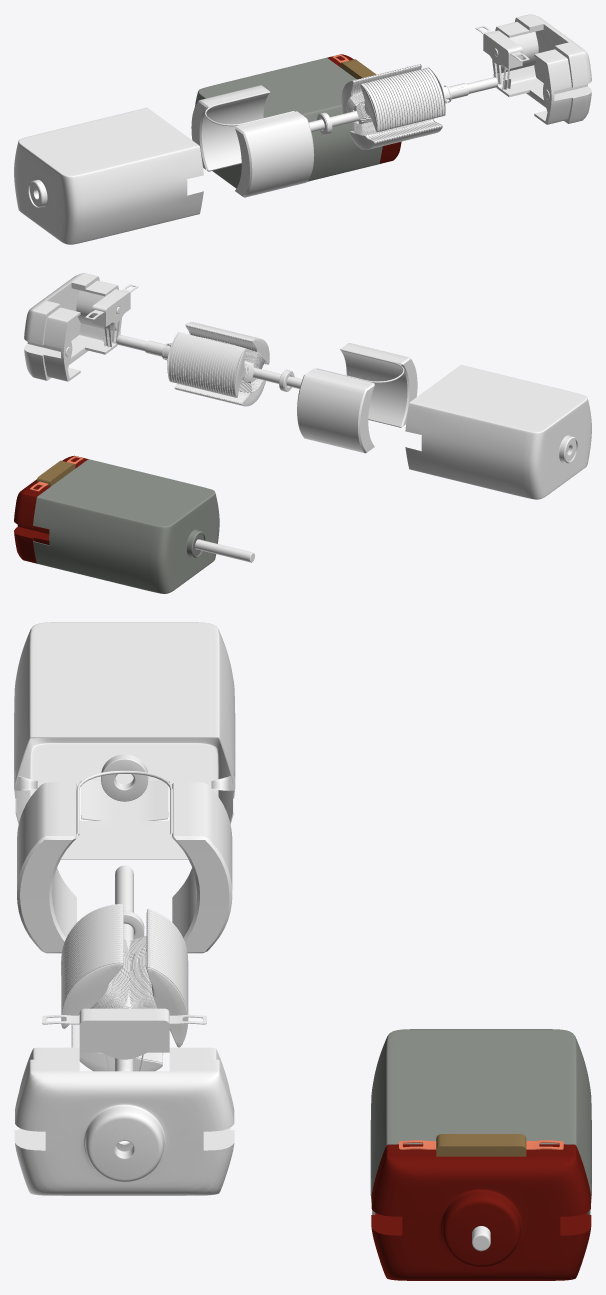
Rendered from MOTOR.glb.
3 views of the same model, one above another, from view 1: azimuth 30°, elevation 25°; view 2: azimuth 150°, elevation 25°; view 3: azimuth 270°, elevation 25° (orthographic). The views are drawn at different scales.
Visible parts, largest first — view 1: Plane.001, Plane, Plane.009, Plane.008, Plane.005, Plane.004, Plane.007, Plane.006; view 2: Plane, Plane.001, Plane.009, Plane.008, Plane.004, Plane.005, Plane.007; view 3: Plane, Plane.001, Plane.008, Plane.009, Plane.004, Plane.005, Plane.007, Plane.003.
Boxes of the visible parts, box(x1,y1,x2,y2) form: Plane.001: box(14, 107, 203, 244); Plane: box(194, 54, 401, 188); Plane.009: box(308, 64, 497, 149); Plane.008: box(492, 14, 591, 124); Plane.005: box(235, 111, 314, 197); Plane.004: box(191, 85, 269, 171); Plane.007: box(475, 26, 529, 90); Plane.006: box(204, 91, 294, 126); Plane: box(14, 455, 254, 593); Plane.001: box(405, 365, 591, 499); Plane.009: box(116, 322, 302, 406); Plane.008: box(24, 273, 121, 381); Plane.004: box(297, 368, 374, 453); Plane.005: box(340, 343, 417, 427); Plane.007: box(85, 284, 138, 347); Plane: box(370, 1029, 591, 1280); Plane.001: box(14, 622, 235, 859); Plane.008: box(14, 1047, 234, 1195); Plane.009: box(61, 865, 188, 1071); Plane.004: box(172, 782, 232, 953); Plane.005: box(17, 782, 76, 953); Plane.007: box(42, 1008, 206, 1071); Plane.003: box(101, 754, 148, 801).
Size of what is drawn, in the model's own units: 22.63 by 6.61 by 11.7.
